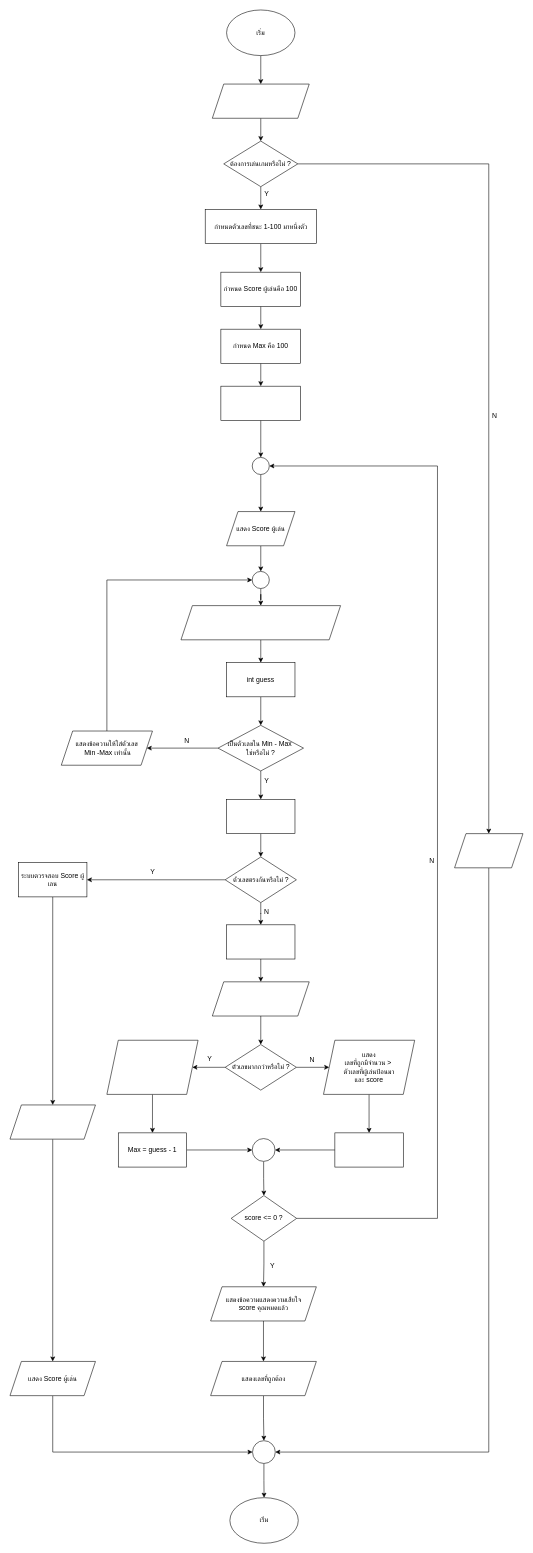
The diagram is 533 pixels wide and 1553 high, and some of its shapes have lost their labels. The shapes that lost their labels are listed below. From the top down, each one's centre as x and y in pixels, then its label:
(x=260, y=101): เกมแสดงข้อความตัวเลือก
(x=260, y=403): กำหนด Min คือ 1
(x=260, y=622): ให้ผู้เล่นป้อนตัวเลข Min - Max
(x=260, y=816): ตรวจสอบว่าตรงกับตัวเลขที่ระบบสุ่มมา
(x=488, y=850): บอกลาผู้เล่น
(x=260, y=941): score -= 10
(x=260, y=998): แสดงข้อความว่ายังไม่ถูกต้อง
(x=152, y=1067): แสดง เลขที่ถูกมีจำนวน < ตัวเลขที่ผู้เล่นป้อนมา และ score
(x=52, y=1121): แสดงความยินดี และแสดงตัวเลขที่ถูกต้อง
(x=368, y=1149): Min = guess + 1
